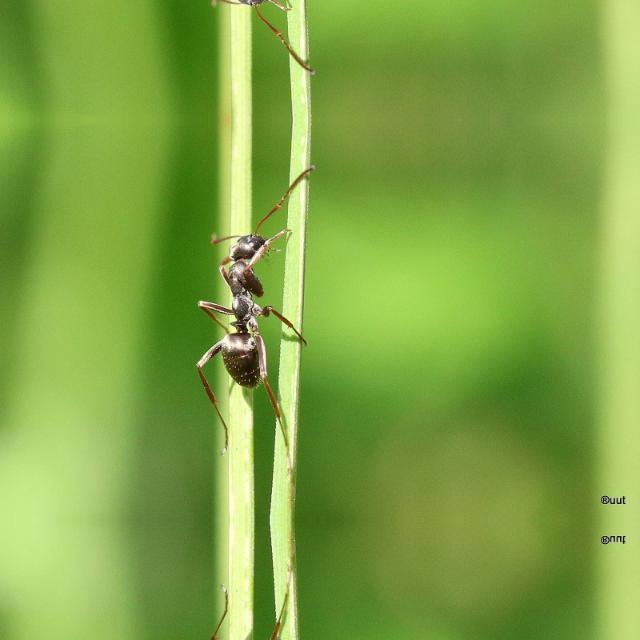Formica: (195, 194, 302, 426)
